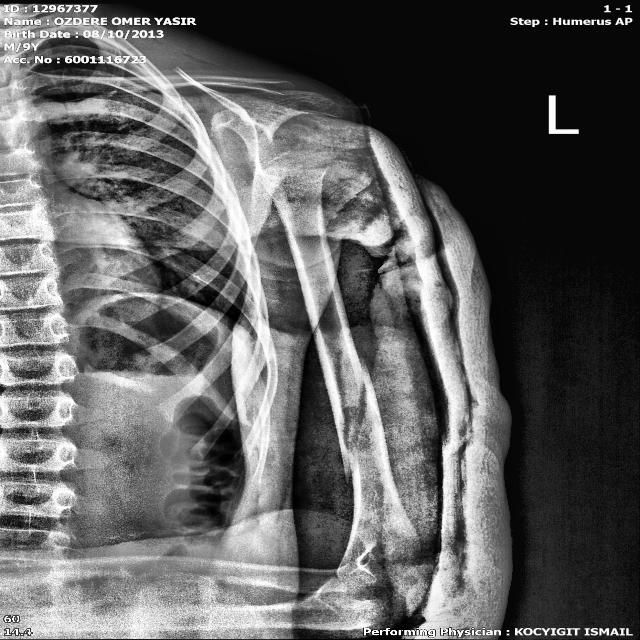Fracture: (312, 362, 395, 489)
